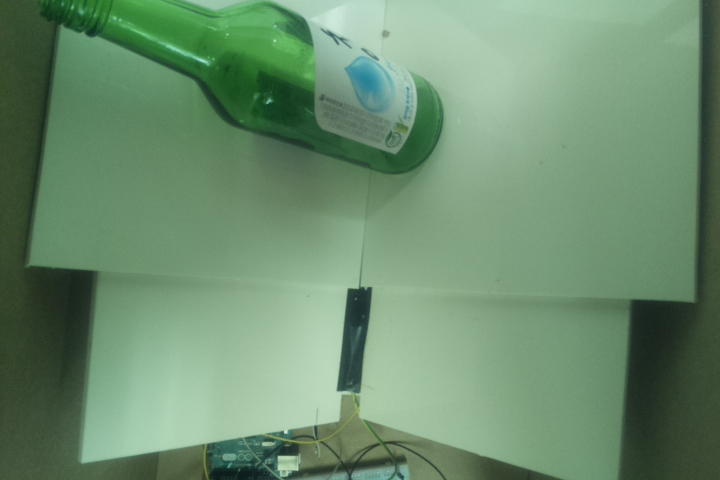soju: (31, 1, 445, 175)
